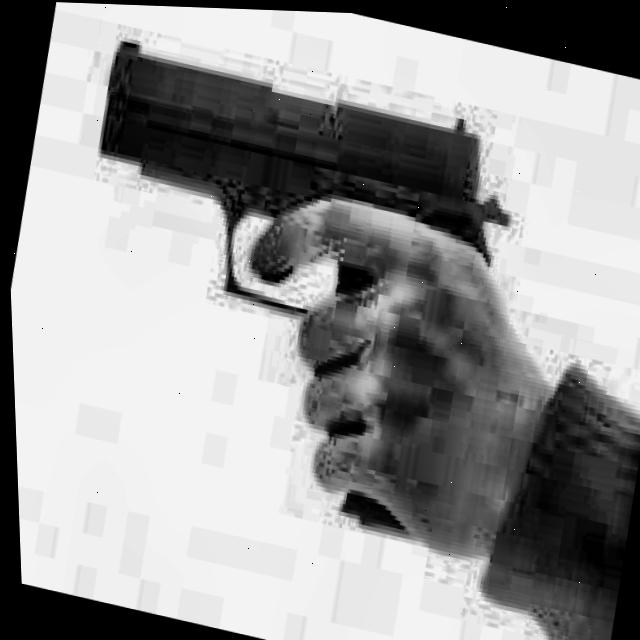pistol: (4, 20, 589, 604)
